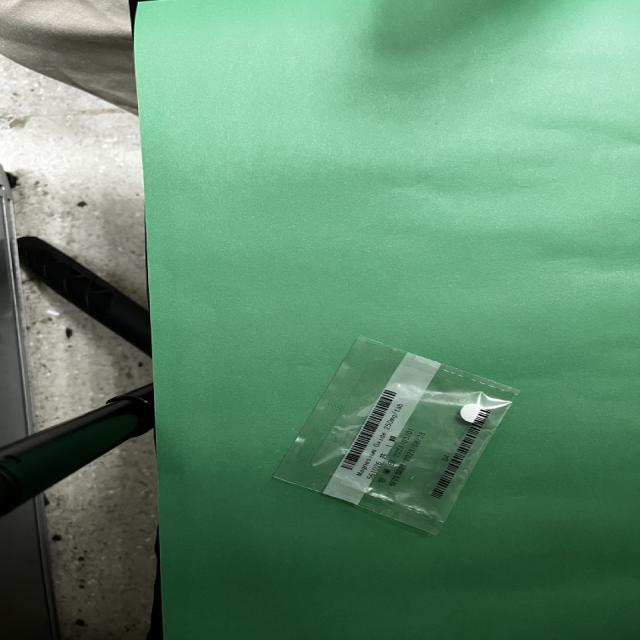Other Objects: (275, 336, 518, 534)
